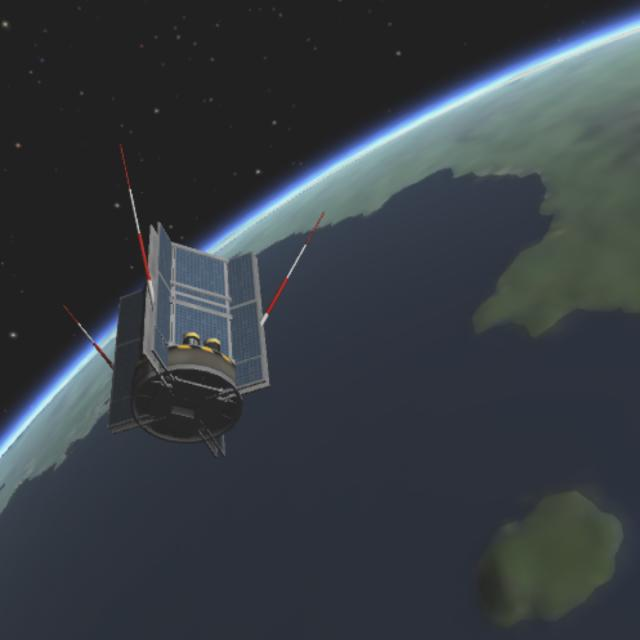satellite: (77, 189, 321, 465)
